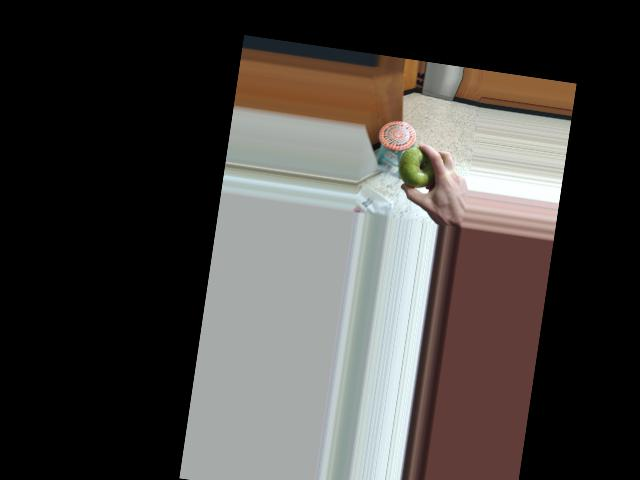apple: (394, 142, 443, 193)
